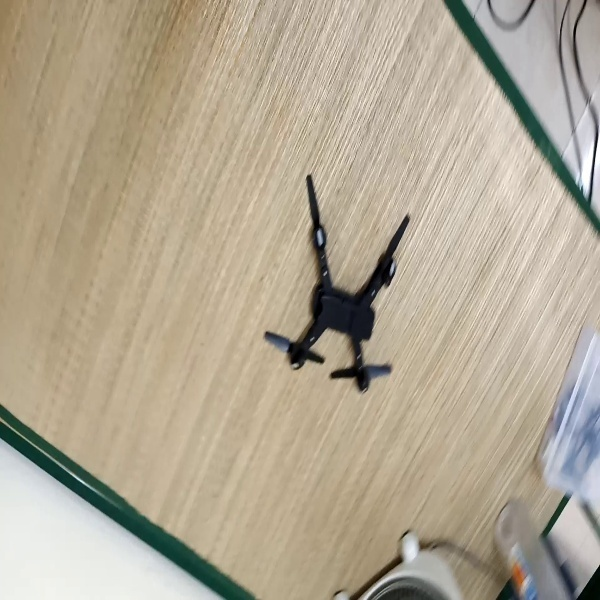drone: (261, 170, 415, 401)
